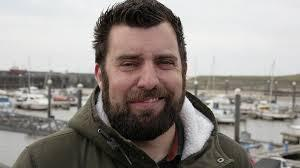normalEye: (109, 48, 181, 76)
